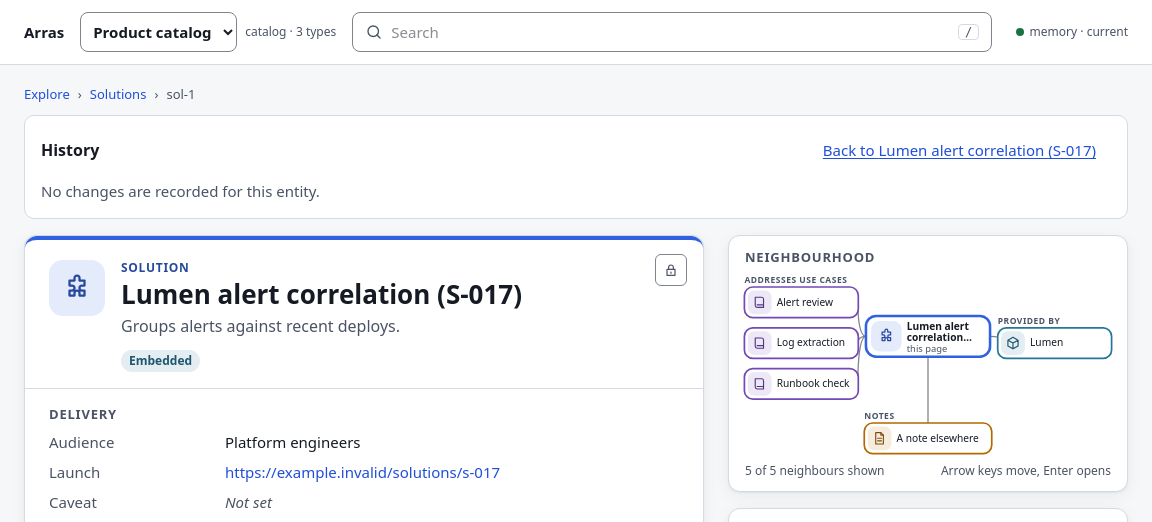
Test case: an entity's history panel (FR-69) › closes a freshly loaded history address by replacing it with the entity
The image size is (1152, 522).
Click the button "Back to Lumen alert correlation (S-017)" at (959, 150), box [808,132,1111,168]
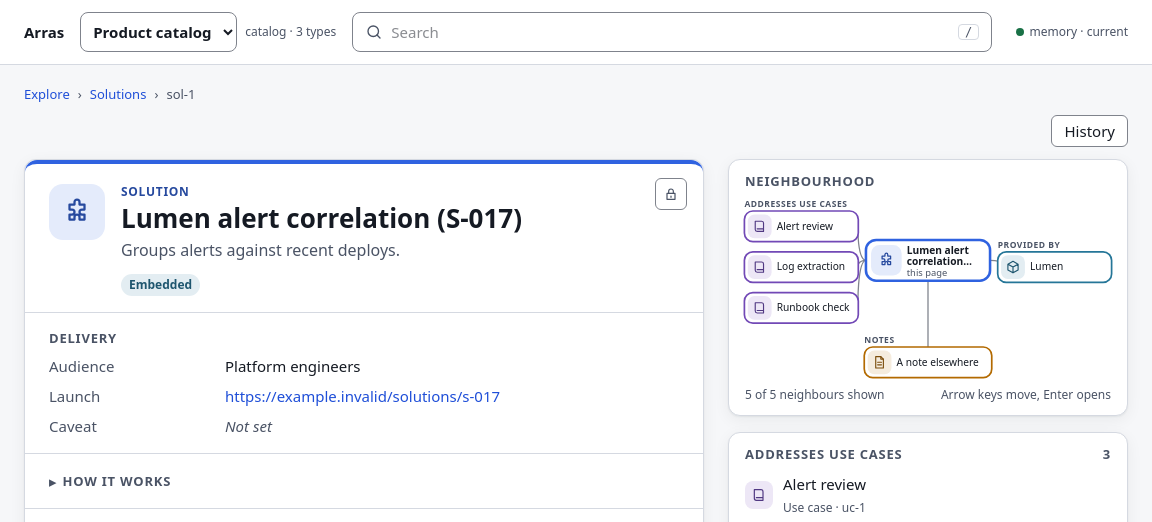
Expected: the element with test id "gb-history" is gone
